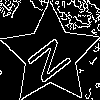N: (25, 30, 81, 86)
